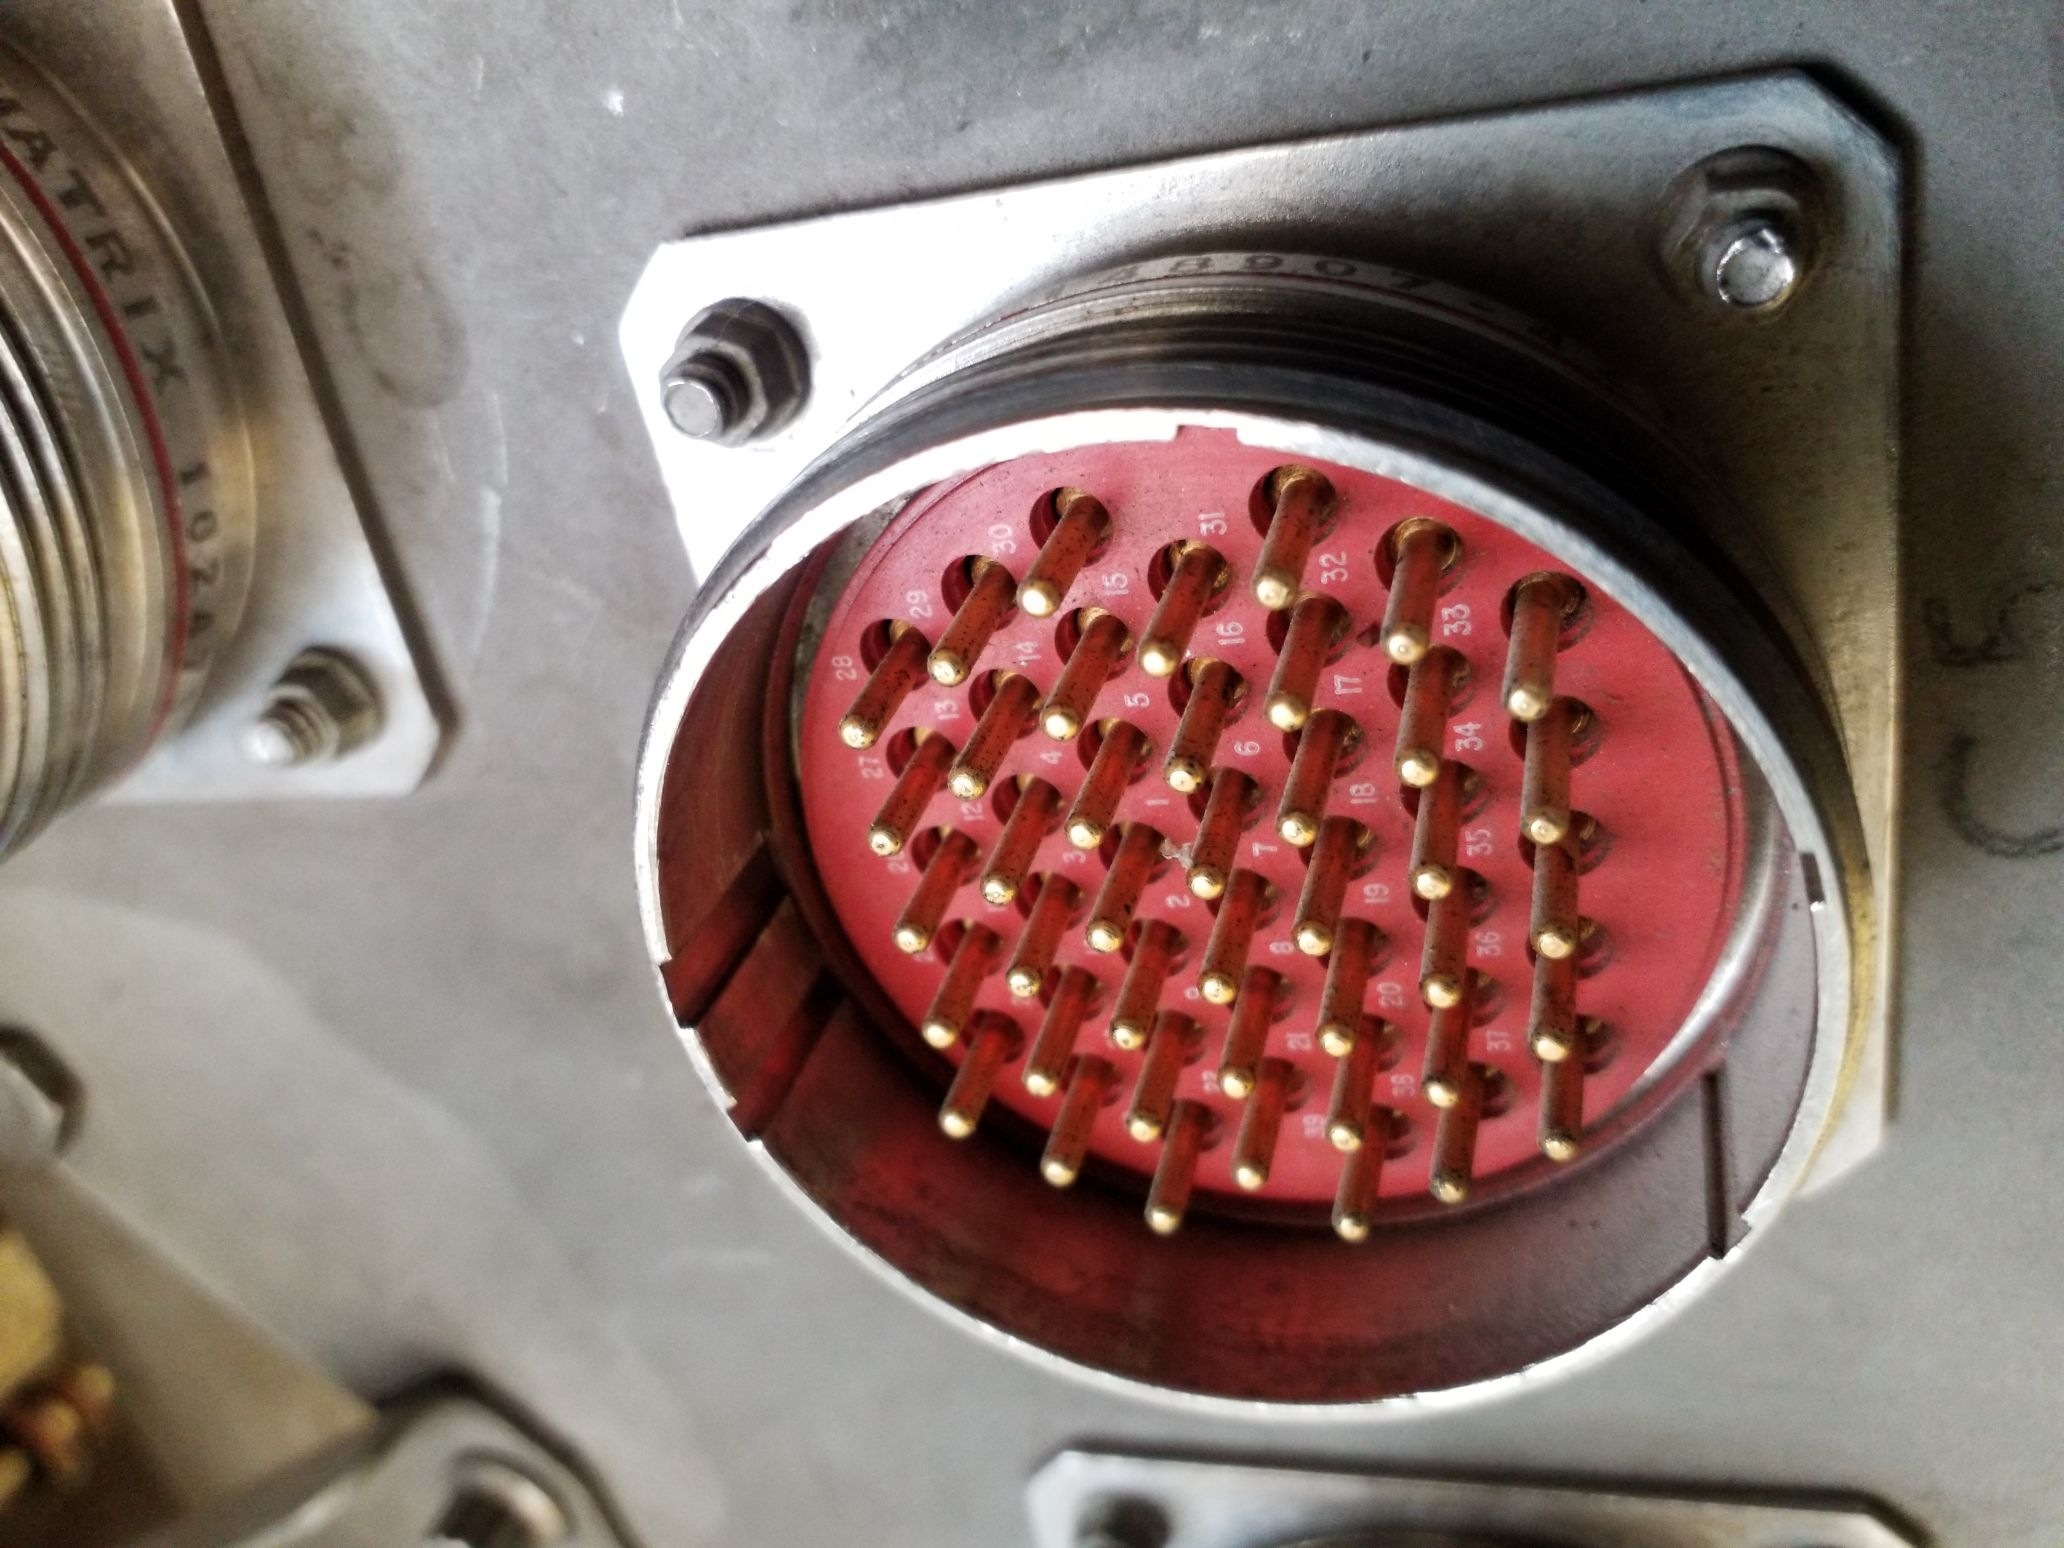outlet: (637, 220, 1867, 1441)
